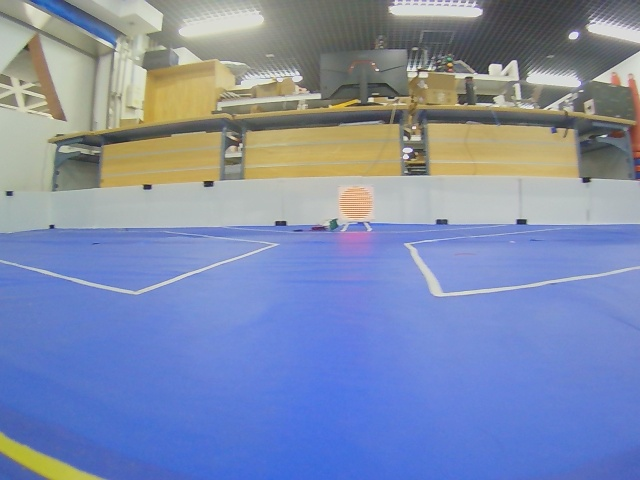red: (338, 186, 374, 222)
